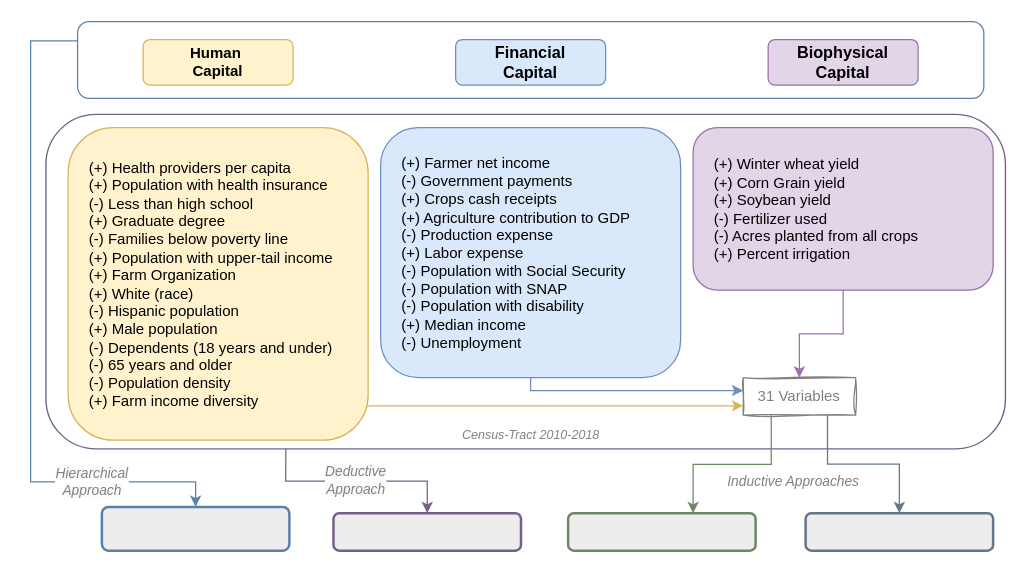
Image size: 1028x574. Some labels were removed from this diagram. Here are the shapes that lost their labels. From the top down, the centre of each, then its label:
At (195,528): "Capitals AC score".
At (427,531): "Variables AC score".
At (661,531): "PCA AC score".
At (899,531): "FA AC score".
